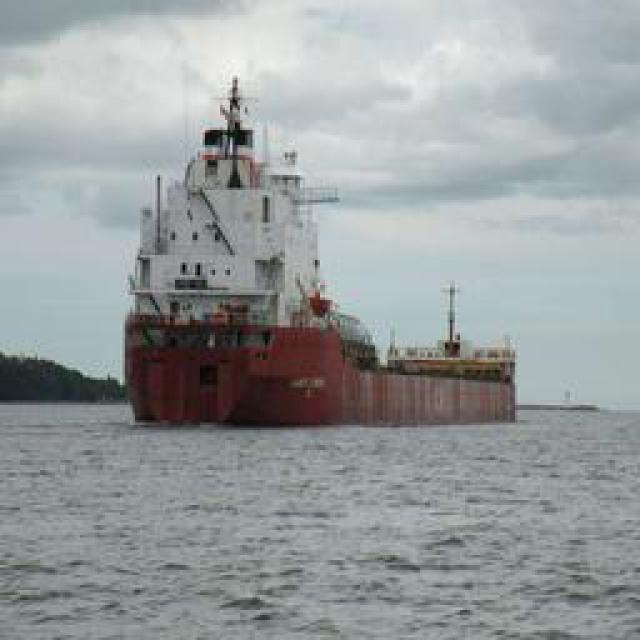Ship: (123, 68, 527, 434)
